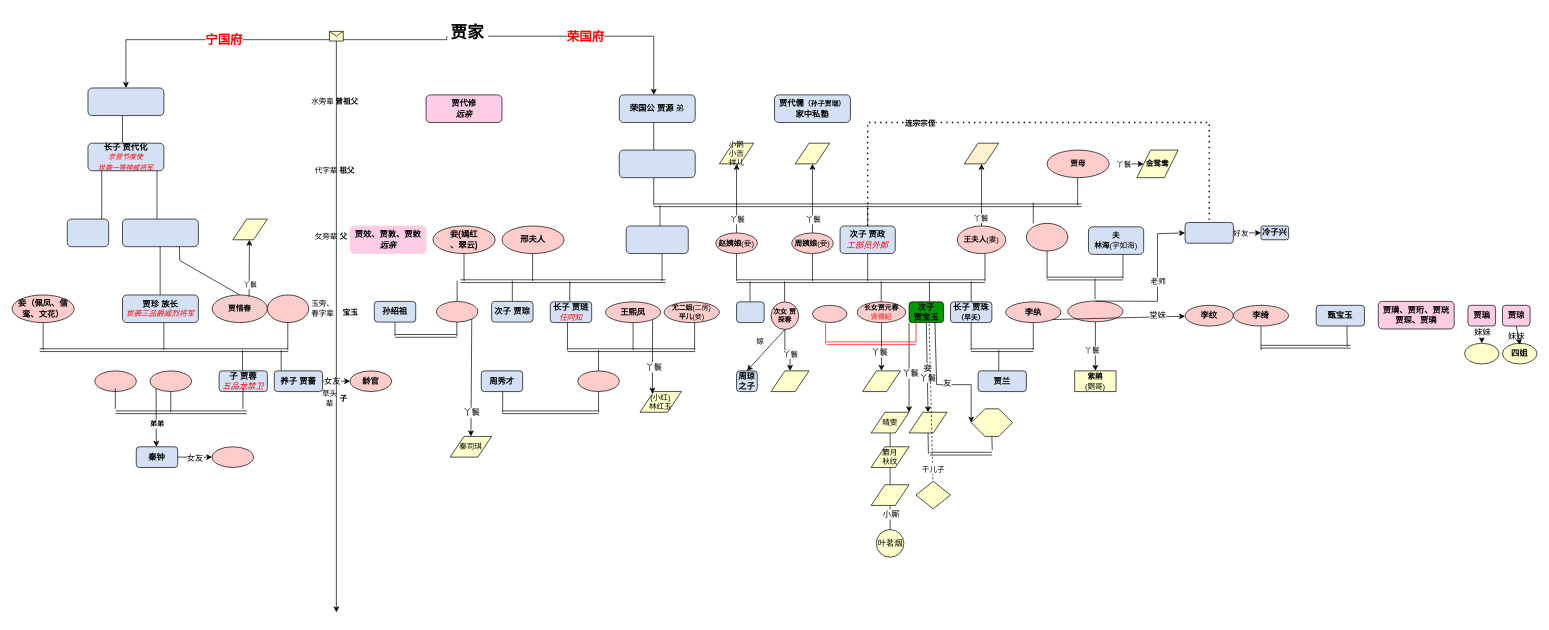
This 1549x630 diagram has some shape labels left out. The shapes that lost their labels are listed below. From the top down, each one's centre as x and y in pixels, then its label:
At (125,101): "宁国公 贾演 兄".
At (657,163): "长子 贾代善".
At (88,232): "长子 贾敷(早夭)".
At (160,232): "次子 贾敬 丙辰科进士".
At (249,229): "入画".
At (656,239): "长子 贾赦 字恩侯 袭荣国公".
At (1047,237): "贾敏 (幺女)".
At (1208,232): "贾雨村".
At (288,308): "尤氏".
At (457,311): "贾迎春".
At (750,312): "三子 贾环".
At (829,314): "薛宝钗".
At (1095,311): "林黛玉".
At (1481,353): "喜鸾".
At (115,381): "（续弦） 许氏、胡氏".
At (170,381): "秦可卿(妻)".
At (598,381): "贾巧娟 （巧姐）".
At (789,381): "侍书".
At (881,381): "抱琴".
At (927,422): "花袭人".
At (991,422): "蒋玉菡 (琪官)".
At (232,456): "智能儿".
At (889,494): "花房官".
At (932,495): "贾芸".
